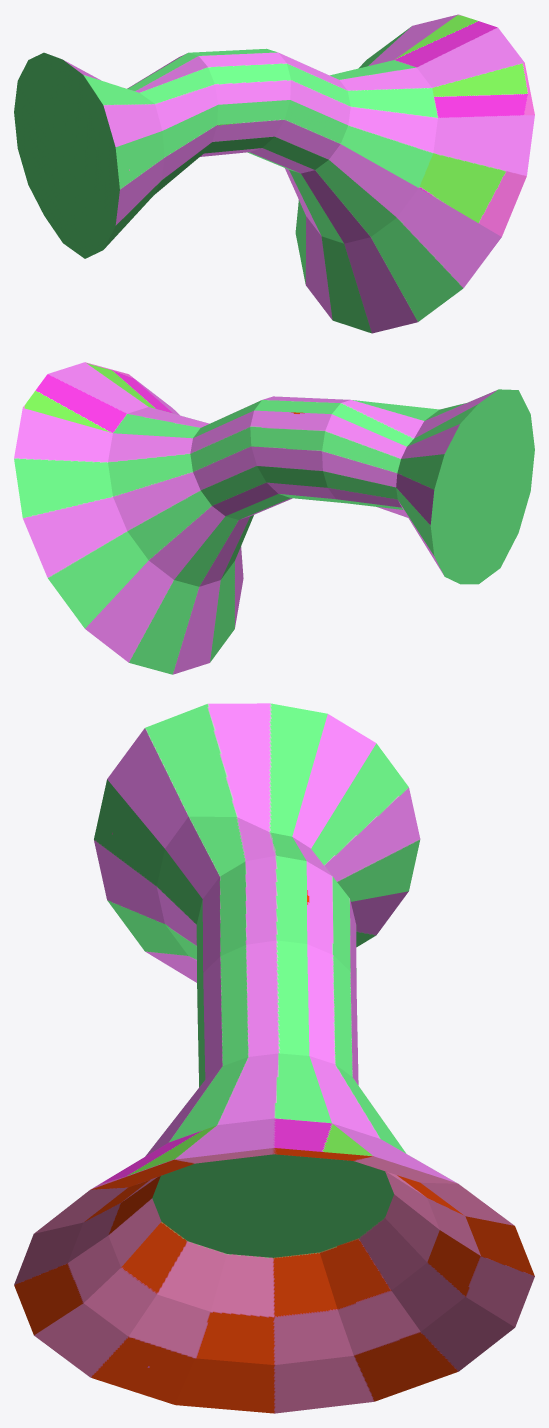
The model's file is plant.glb.
The picture shows the model from 3 angles, top to bottom: view 1: azimuth 30°, elevation 25°; view 2: azimuth 150°, elevation 25°; view 3: azimuth 270°, elevation 25°; orthographic projection. The views are drawn at different scales.
Visible parts, largest first — view 1: Cylinder; view 2: Cylinder; view 3: Cylinder.
Boxes of the visible parts, x1,y1,x2,y2 form: Cylinder: (14,14,534,333); Cylinder: (14,362,534,674); Cylinder: (14,703,534,1413).
Bounding box in the file's own units: 4.45 × 3.2 × 2.99.
1 material, 1 textured.
